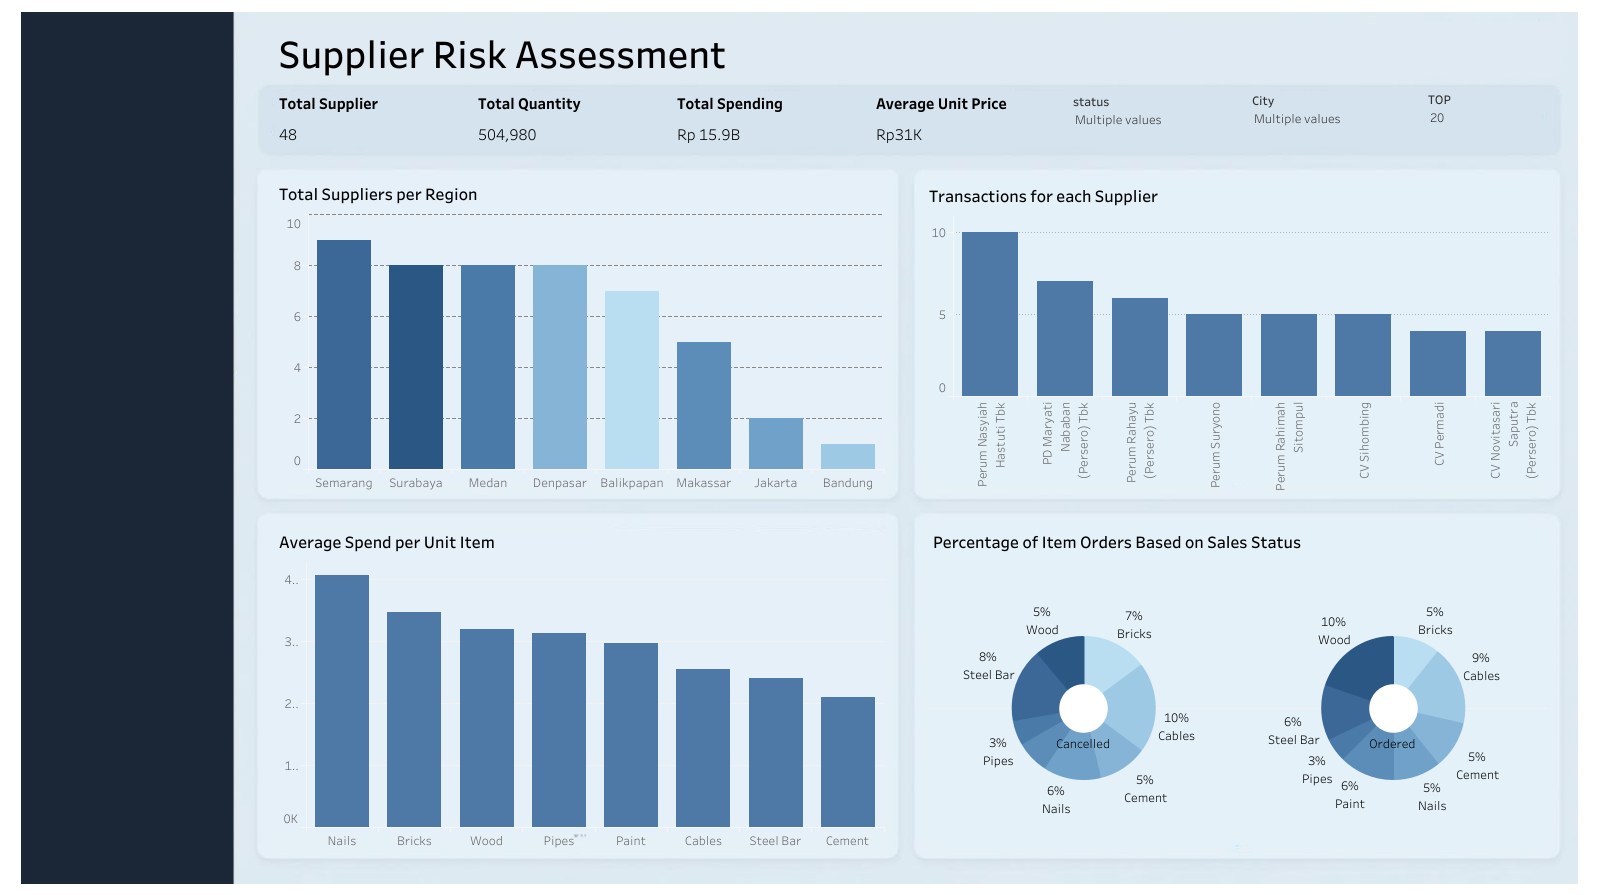

The dashboard page shown, as its layout file describes it:
{"tool":"tableau","page":{"name":"Dashboard 1","canvas":[1600,896],"ordinal":0},"visuals":[{"type":"image","param":"Image/Untitled design (4).png","box":[0,0,1600,896]},{"type":"text","box":[199,22,1361,77]},{"type":"dashboard-object","box":[11,41,157,52]},{"type":"filter","title":"Sheet 1","param":"[federated.0nkcjwp13ojz351adnope10mn53c].[none:status:nk]","box":[835,102,118,111]},{"type":"dashboard-object","box":[13,104,153,52]},{"type":"worksheet","title":"Sheet 1","mark":"Automatic","box":[202,107,271,108]},{"type":"worksheet","title":"Sheet 1 (2)","mark":"Automatic","box":[496,108,277,35]},{"type":"parameter","param":"[Parameters].[Parameter 1]","box":[961,108,116,66]},{"type":"worksheet","title":"Sheet 1 (3)","mark":"Automatic","box":[1141,110,239,37]},{"type":"worksheet","title":"Sheet 13","mark":"Automatic","rows":["company_name"],"cols":["industry"],"box":[205,140,267,71]},{"type":"worksheet","title":"Sheet 15","mark":"Automatic","rows":["total_orders"],"cols":["last_order_date"],"box":[1123,140,451,78]},{"type":"worksheet","title":"Sheet 14","mark":"Automatic","rows":["total_spending"],"cols":["last_order_date"],"box":[487,143,287,80]},{"type":"filter","title":"Sheet 4 (3)","param":"[federated.0nkcjwp13ojz351adnope10mn53c].[yr:last_order_date:ok]","box":[960,162,119,56]},{"type":"worksheet","title":"Sheet 4 (3)","mark":"Automatic","rows":["total_spending"],"cols":["last_order_date"],"box":[198,250,514,290]},{"type":"worksheet","title":"Sheet 4 (2)","mark":"Automatic","rows":["total_spending"],"cols":["last_order_date"],"box":[1046,253,519,288]},{"type":"worksheet","title":"Sheet 6","mark":"Automatic","rows":["item"],"cols":["total_orders"],"box":[733,256,281,286]},{"type":"worksheet","title":"Sheet 4","mark":"Automatic","rows":["total_spending"],"cols":["last_order_date"],"box":[197,586,515,296]},{"type":"worksheet","title":"Sheet 5","mark":"Automatic","rows":["company_name"],"cols":["total_spending"],"box":[752,586,259,298]},{"type":"worksheet","title":"Sheet 19","mark":"Automatic","rows":["Calculation_1125967761211710"],"cols":["company_name"],"box":[1048,590,516,290]},{"type":"text","box":[20,846,141,30]}]}

Visuals, with their boxes in screenshot pixels (x1, y1, x2, y2), scaled from the page's 1600x896 canvas onto the 1599x895 screenshot:
image: crop(0, 0, 1598, 894)
text: crop(199, 22, 1559, 99)
dashboard-object: crop(11, 41, 168, 93)
"Sheet 1" filter: crop(834, 102, 952, 213)
dashboard-object: crop(13, 104, 166, 156)
"Sheet 1" worksheet: crop(202, 107, 473, 215)
"Sheet 1 (2)" worksheet: crop(496, 108, 773, 143)
parameter: crop(960, 108, 1076, 174)
"Sheet 1 (3)" worksheet: crop(1140, 110, 1379, 147)
"Sheet 13" worksheet: crop(205, 140, 472, 211)
"Sheet 15" worksheet: crop(1122, 140, 1573, 218)
"Sheet 14" worksheet: crop(487, 143, 774, 223)
"Sheet 4 (3)" filter: crop(959, 162, 1078, 218)
"Sheet 4 (3)" worksheet: crop(198, 250, 712, 539)
"Sheet 4 (2)" worksheet: crop(1045, 253, 1564, 540)
"Sheet 6" worksheet: crop(733, 256, 1013, 541)
"Sheet 4" worksheet: crop(197, 585, 712, 881)
"Sheet 5" worksheet: crop(752, 585, 1010, 883)
"Sheet 19" worksheet: crop(1047, 589, 1563, 879)
text: crop(20, 845, 161, 875)
